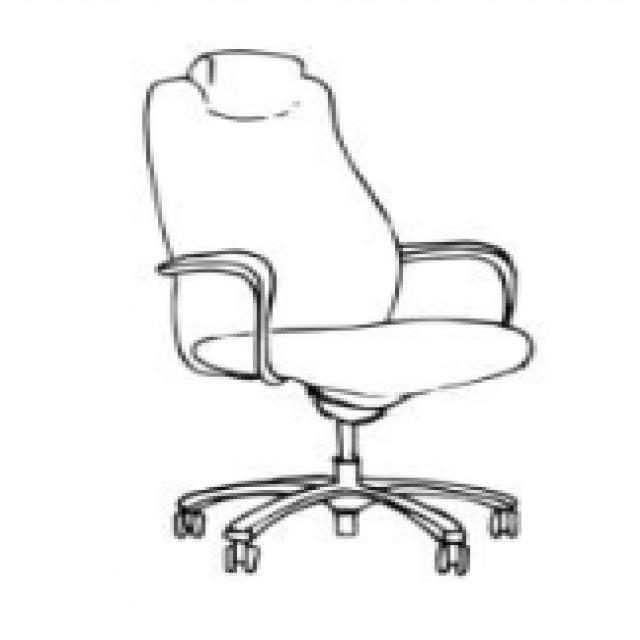5_Star_Base: (164, 447, 528, 585)
Armrest: (148, 239, 294, 392), (398, 239, 521, 329)
Backrest: (142, 78, 405, 347)
Base: (295, 389, 398, 478)
Caster_Wheel: (422, 524, 479, 583), (213, 529, 270, 583), (476, 500, 529, 545), (163, 504, 214, 546)
Headrest: (185, 51, 307, 123)
Seat: (191, 321, 537, 398)
